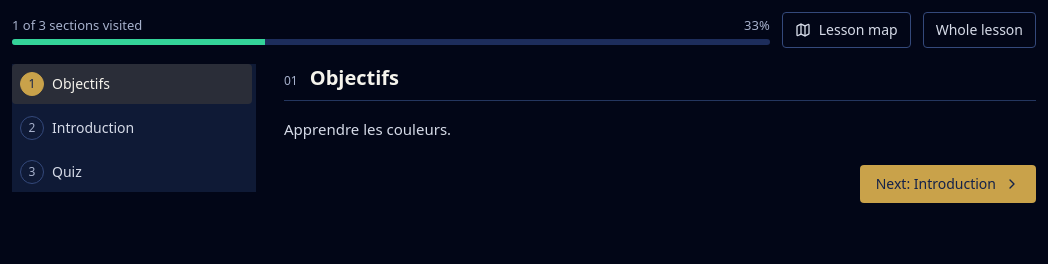
Test: LessonView: one section at a time › the side list jumps straight to a section
The image size is (1048, 264).
Click the button "3 Quiz": x=132, y=172 [12, 152, 252, 192]
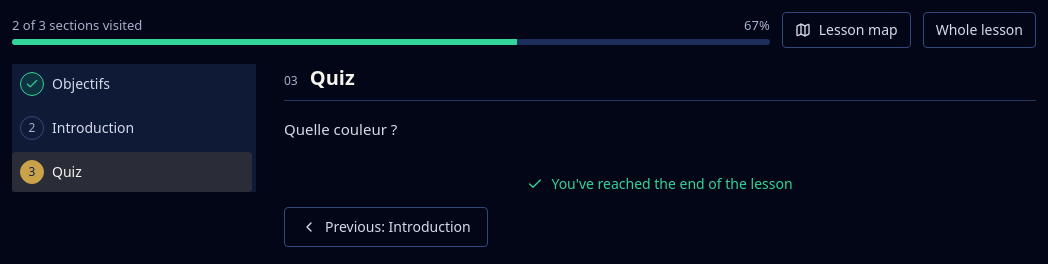
Check: the text "Quelle couleur ?" is shown, box [284, 119, 397, 139]
Check: the text "Apprendre les couleurs." is gone
